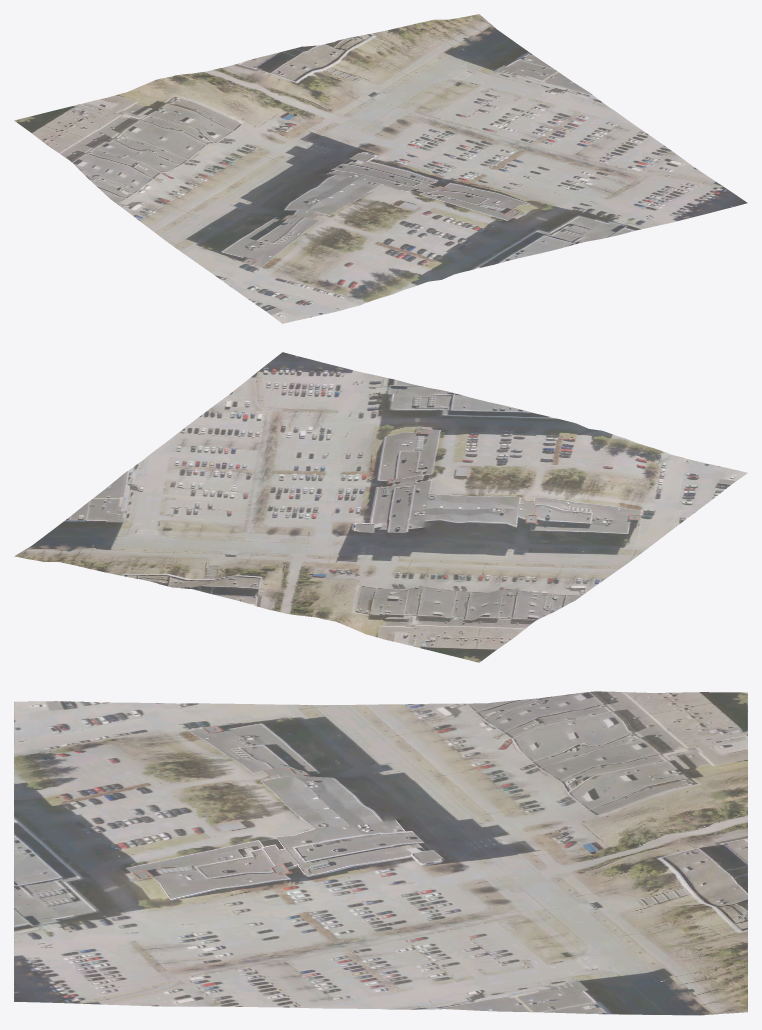
File: CM_Terrain_24492506_6815288.fbx
3 renders of one model, top to bottom at view 1: azimuth 30°, elevation 25°; view 2: azimuth 150°, elevation 25°; view 3: azimuth 270°, elevation 25°, orthographic. The views are drawn at different scales.
Visible parts, largest first — view 1: CM_Terrain_24492506_6815288_LOD0; view 2: CM_Terrain_24492506_6815288_LOD0; view 3: CM_Terrain_24492506_6815288_LOD0.
Part boxes in pixels (x1,y1,x2,y2): CM_Terrain_24492506_6815288_LOD0: (14, 14, 747, 323); CM_Terrain_24492506_6815288_LOD0: (14, 352, 747, 662); CM_Terrain_24492506_6815288_LOD0: (14, 691, 747, 1015).
Size of what is drawn, in the model's own units: 205 by 6.82 by 205.
